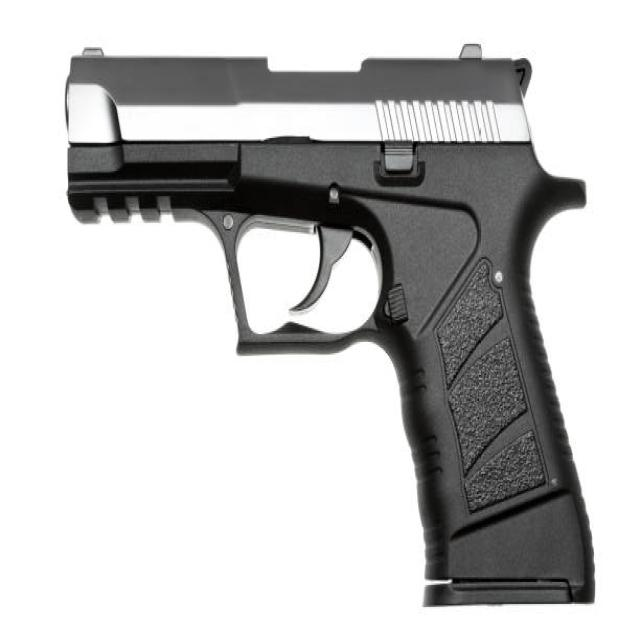pistol: (53, 32, 605, 620)
